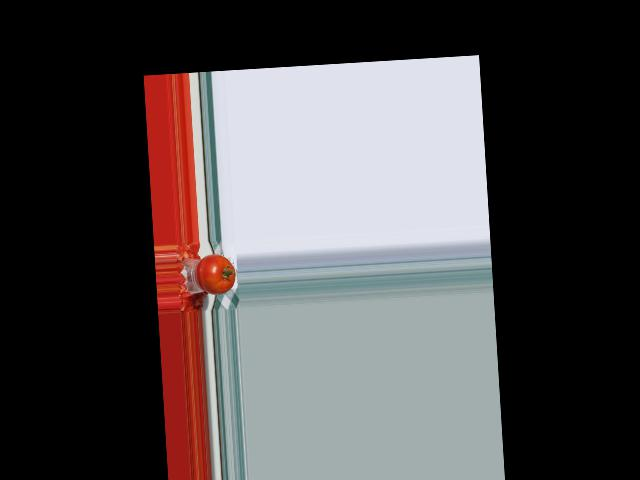tomato: (195, 252, 236, 296)
